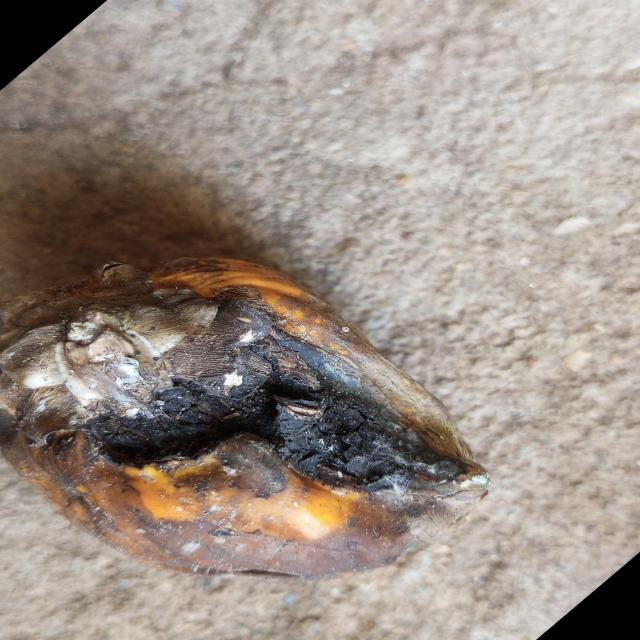damaged: (0, 244, 490, 581)
